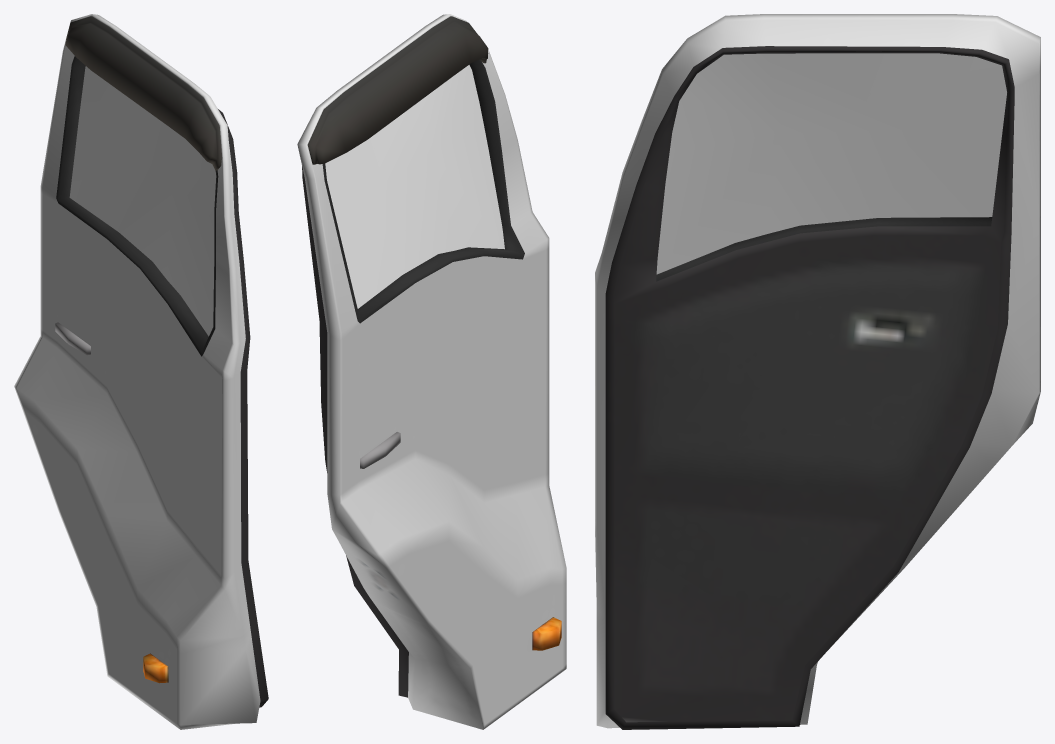
File: truck_door_fr.fbx
The picture shows the model from 3 angles, left to right: view 1: azimuth 30°, elevation 25°; view 2: azimuth 150°, elevation 25°; view 3: azimuth 270°, elevation 25°; orthographic projection. The views are drawn at different scales.
Visible parts, largest first — view 1: door_FR; view 2: door_FR; view 3: door_FR.
Part boxes in pixels (left/top/right/bottom): door_FR: left=14, top=14, right=268, bottom=729; door_FR: left=297, top=14, right=566, bottom=729; door_FR: left=595, top=14, right=1040, bottom=729.
Size of the model in its own units: 33.1 by 197 by 111.
6 materials, 5 textured.
